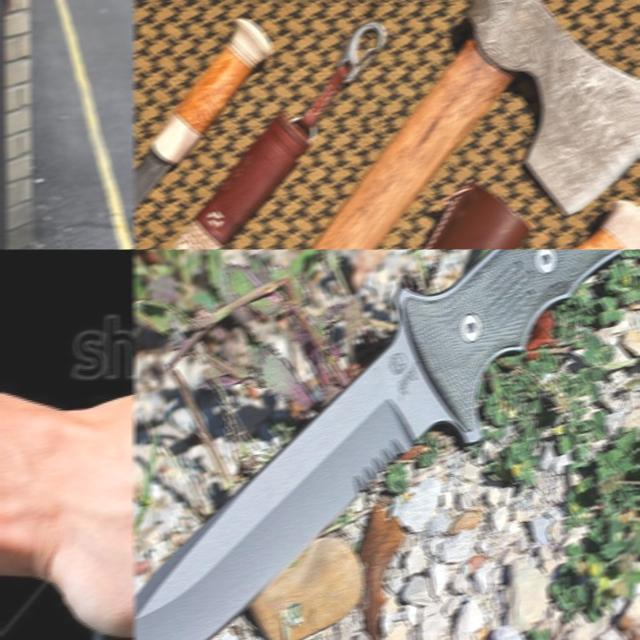Knife_Handle: (0, 388, 135, 640)
